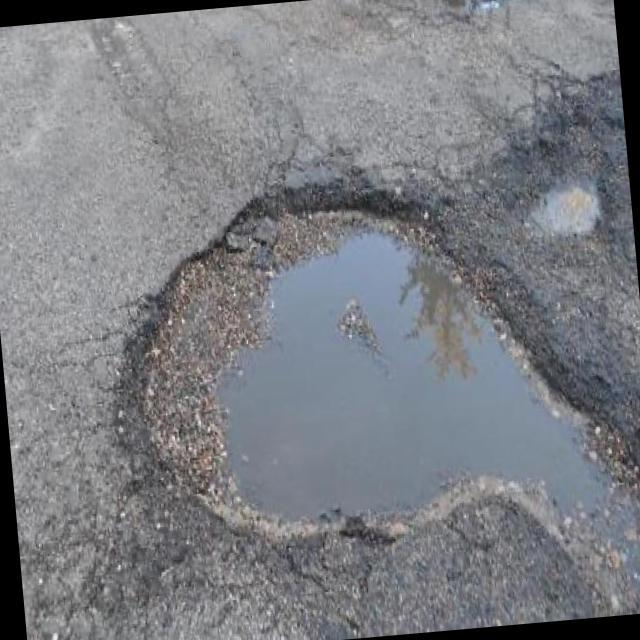Pothole: (119, 195, 640, 610), (528, 183, 600, 236)
